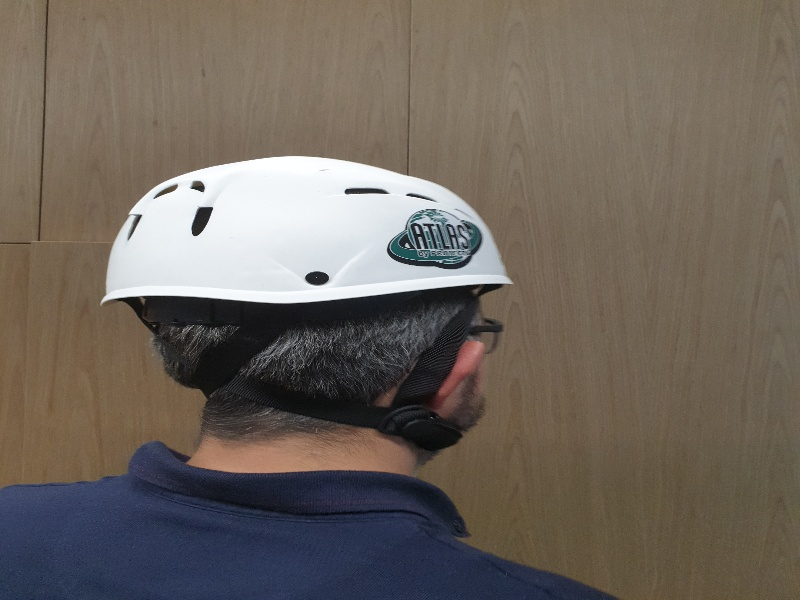Baret: (98, 156, 513, 298)
